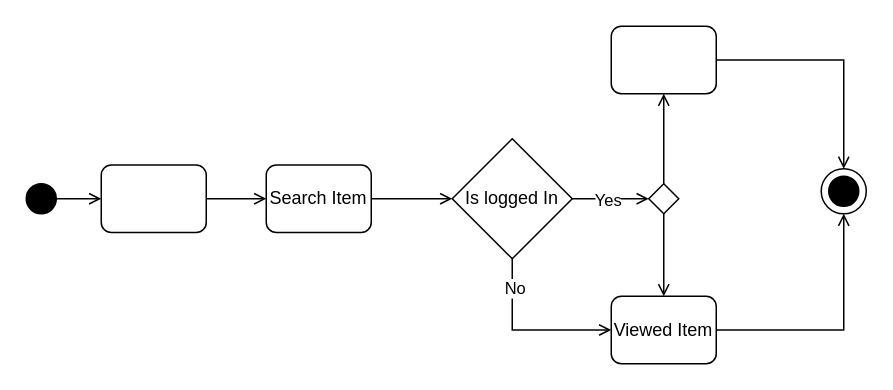
Image size: 893x390. Some labels were removed from this diagram. Here are the shapes that lost their labels. From the top down, the box of each, then its label:
(610, 25, 716, 94): Add to List
(100, 164, 206, 232): Opens the App
